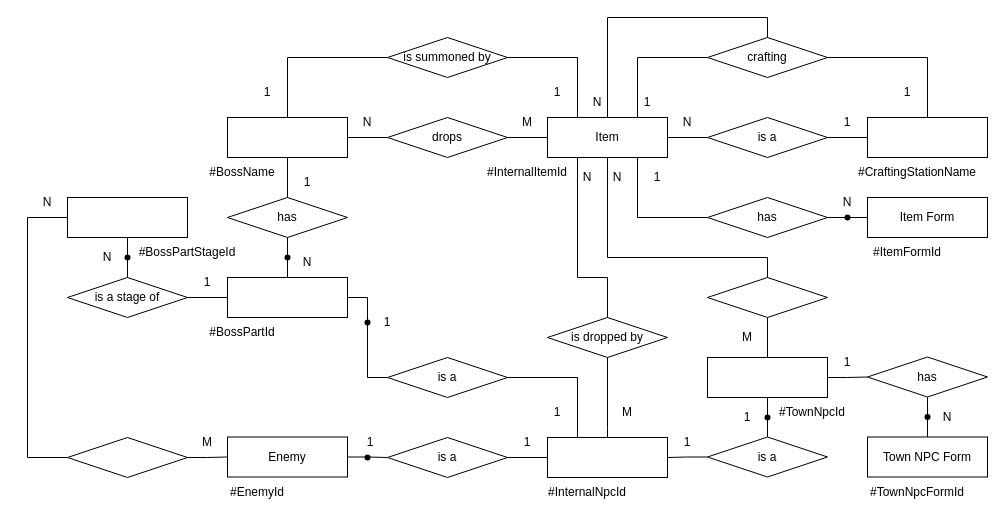
This 1005x525 diagram has some shape labels left out. The box of each missing label's shape, as (x1, y1, x2, y2) in pixels:
Boss: (226, 116, 348, 158)
Boss Part: (226, 276, 348, 318)
Boss Part Stage: (66, 196, 188, 238)
Crafting Station: (866, 116, 988, 158)
Entity: (546, 436, 668, 478)
is traded by: (706, 276, 828, 318)
spawns: (66, 436, 188, 478)
Town NPC: (706, 356, 828, 398)
